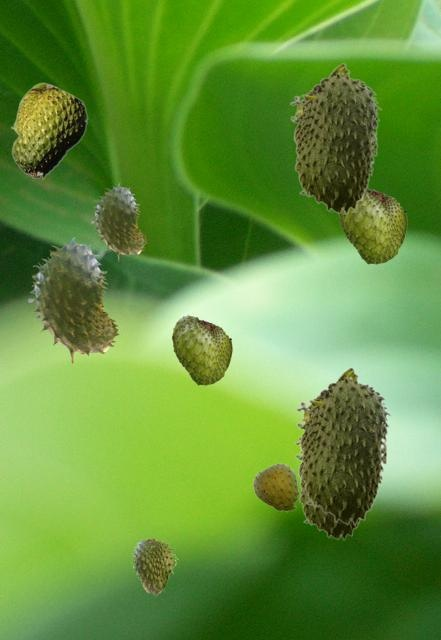guyabano: (296, 366, 391, 524), (290, 62, 381, 213), (28, 237, 118, 363), (10, 82, 87, 179), (295, 436, 360, 539), (338, 187, 406, 263), (91, 183, 146, 260), (172, 314, 231, 384), (131, 538, 177, 595), (252, 463, 298, 511)
